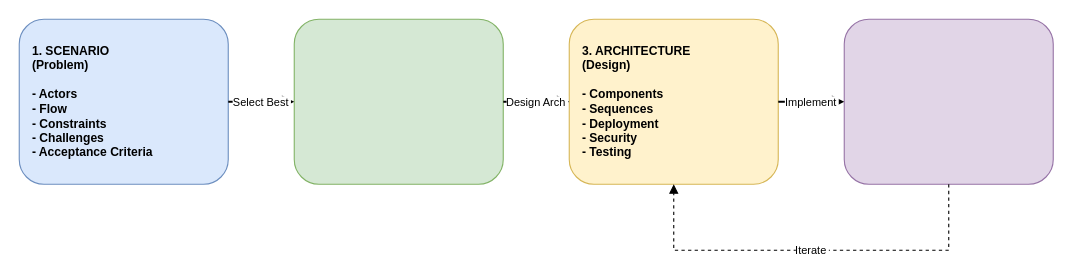
This 1073x278 diagram has some shape labels left out. Each missing label, with the centre of its shape:
"2. SOLUTIONS (Options) - Option 1 - Option 2 - Option 3 - Comparison" goes at (x=398, y=101).
"4. VALIDATE (Test) - AC1 ✓ - AC2 ✓ - AC3 ✗ - Iterate" goes at (x=948, y=101).
